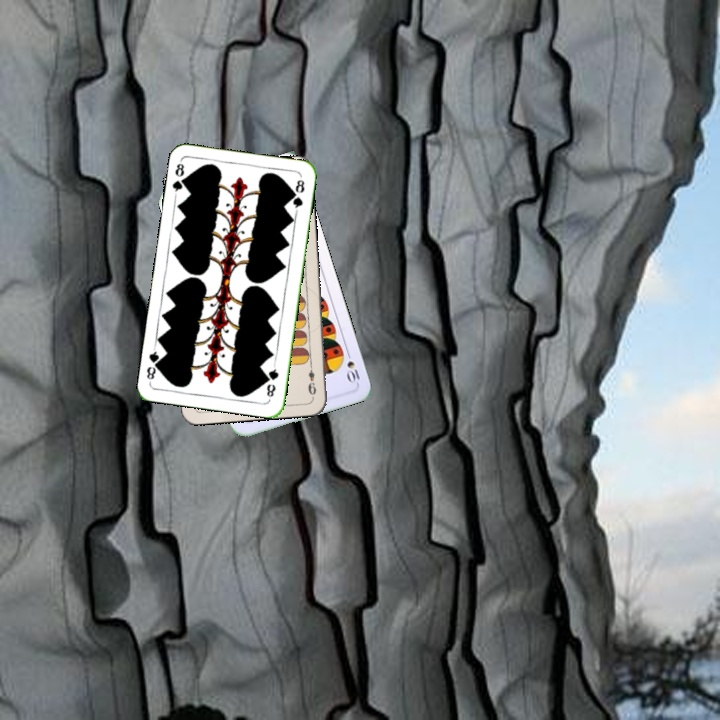E9: (304, 359, 319, 399)
G8: (168, 157, 190, 198), (263, 361, 281, 400)
S10: (342, 346, 362, 386)
